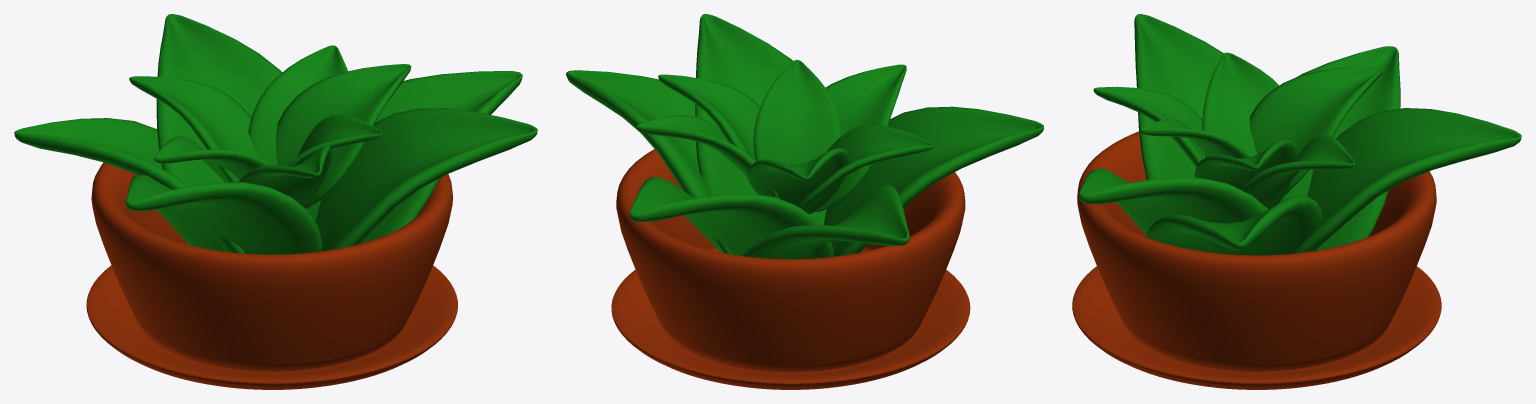
The model's file is maceta3.fbx.
The picture shows the model from 3 angles, left to right: view 1: azimuth 30°, elevation 25°; view 2: azimuth 150°, elevation 25°; view 3: azimuth 270°, elevation 25°; orthographic projection. The views are drawn at different scales.
Parts seen in each view (by area): view 1: maceta3; view 2: maceta3; view 3: maceta3.
Part boxes in pixels (left/top/right/bottom): maceta3: left=14, top=14, right=537, bottom=389; maceta3: left=566, top=14, right=1043, bottom=389; maceta3: left=1072, top=14, right=1521, bottom=389.
Size of the model in its own units: 34.66 by 16.86 by 30.56.
